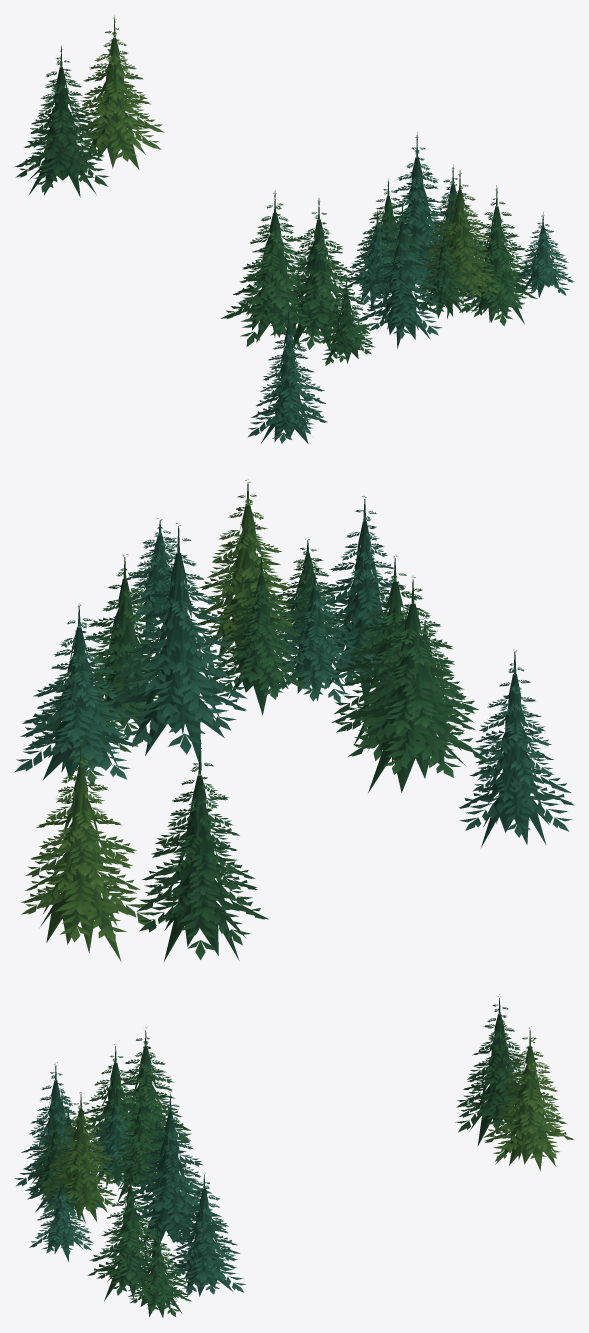
The picture shows the model from 3 angles, top to bottom: view 1: azimuth 30°, elevation 25°; view 2: azimuth 150°, elevation 25°; view 3: azimuth 270°, elevation 25°; orthographic projection. The views are drawn at different scales.
Visible parts, largest first — view 1: pn_12; view 2: pn_12; view 3: pn_12.
Boxes of the visible parts, x1=… form: pn_12: x1=14, y1=15, x2=574, y2=443; pn_12: x1=14, y1=479, x2=574, y2=961; pn_12: x1=14, y1=994, x2=573, y2=1317.
Bounding box in the file's own units: 35.39 × 24.31 × 54.
Materials: 1 (1 with a texture image).
